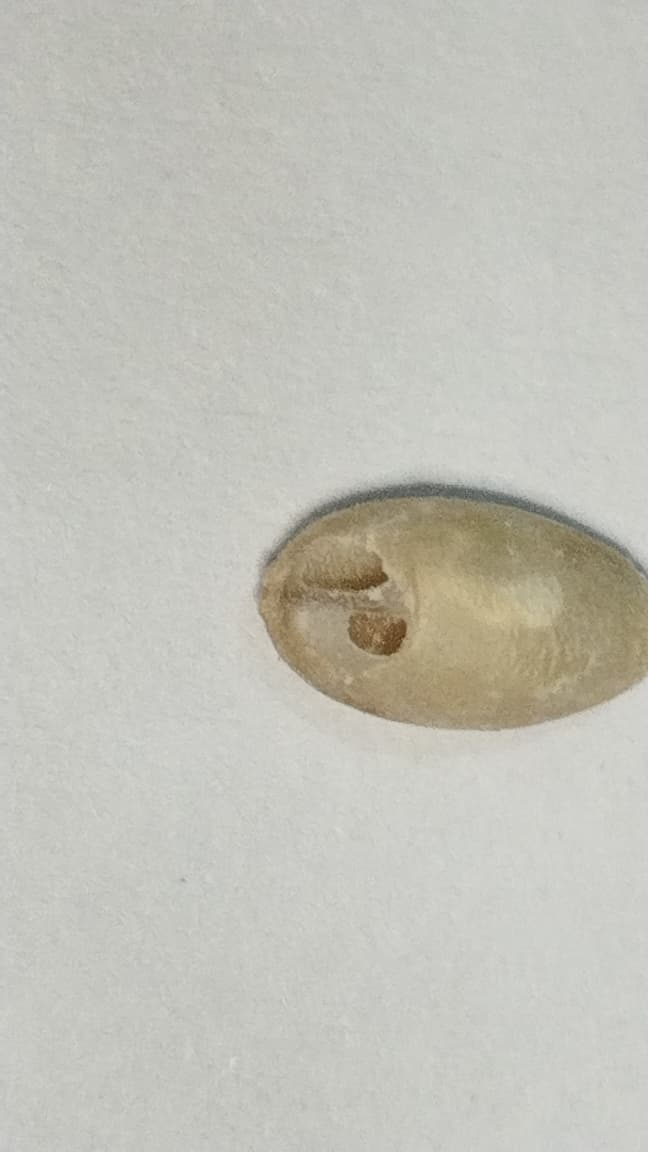damage: (259, 495, 647, 731)
insectdamage: (294, 533, 446, 656), (482, 556, 573, 631)
